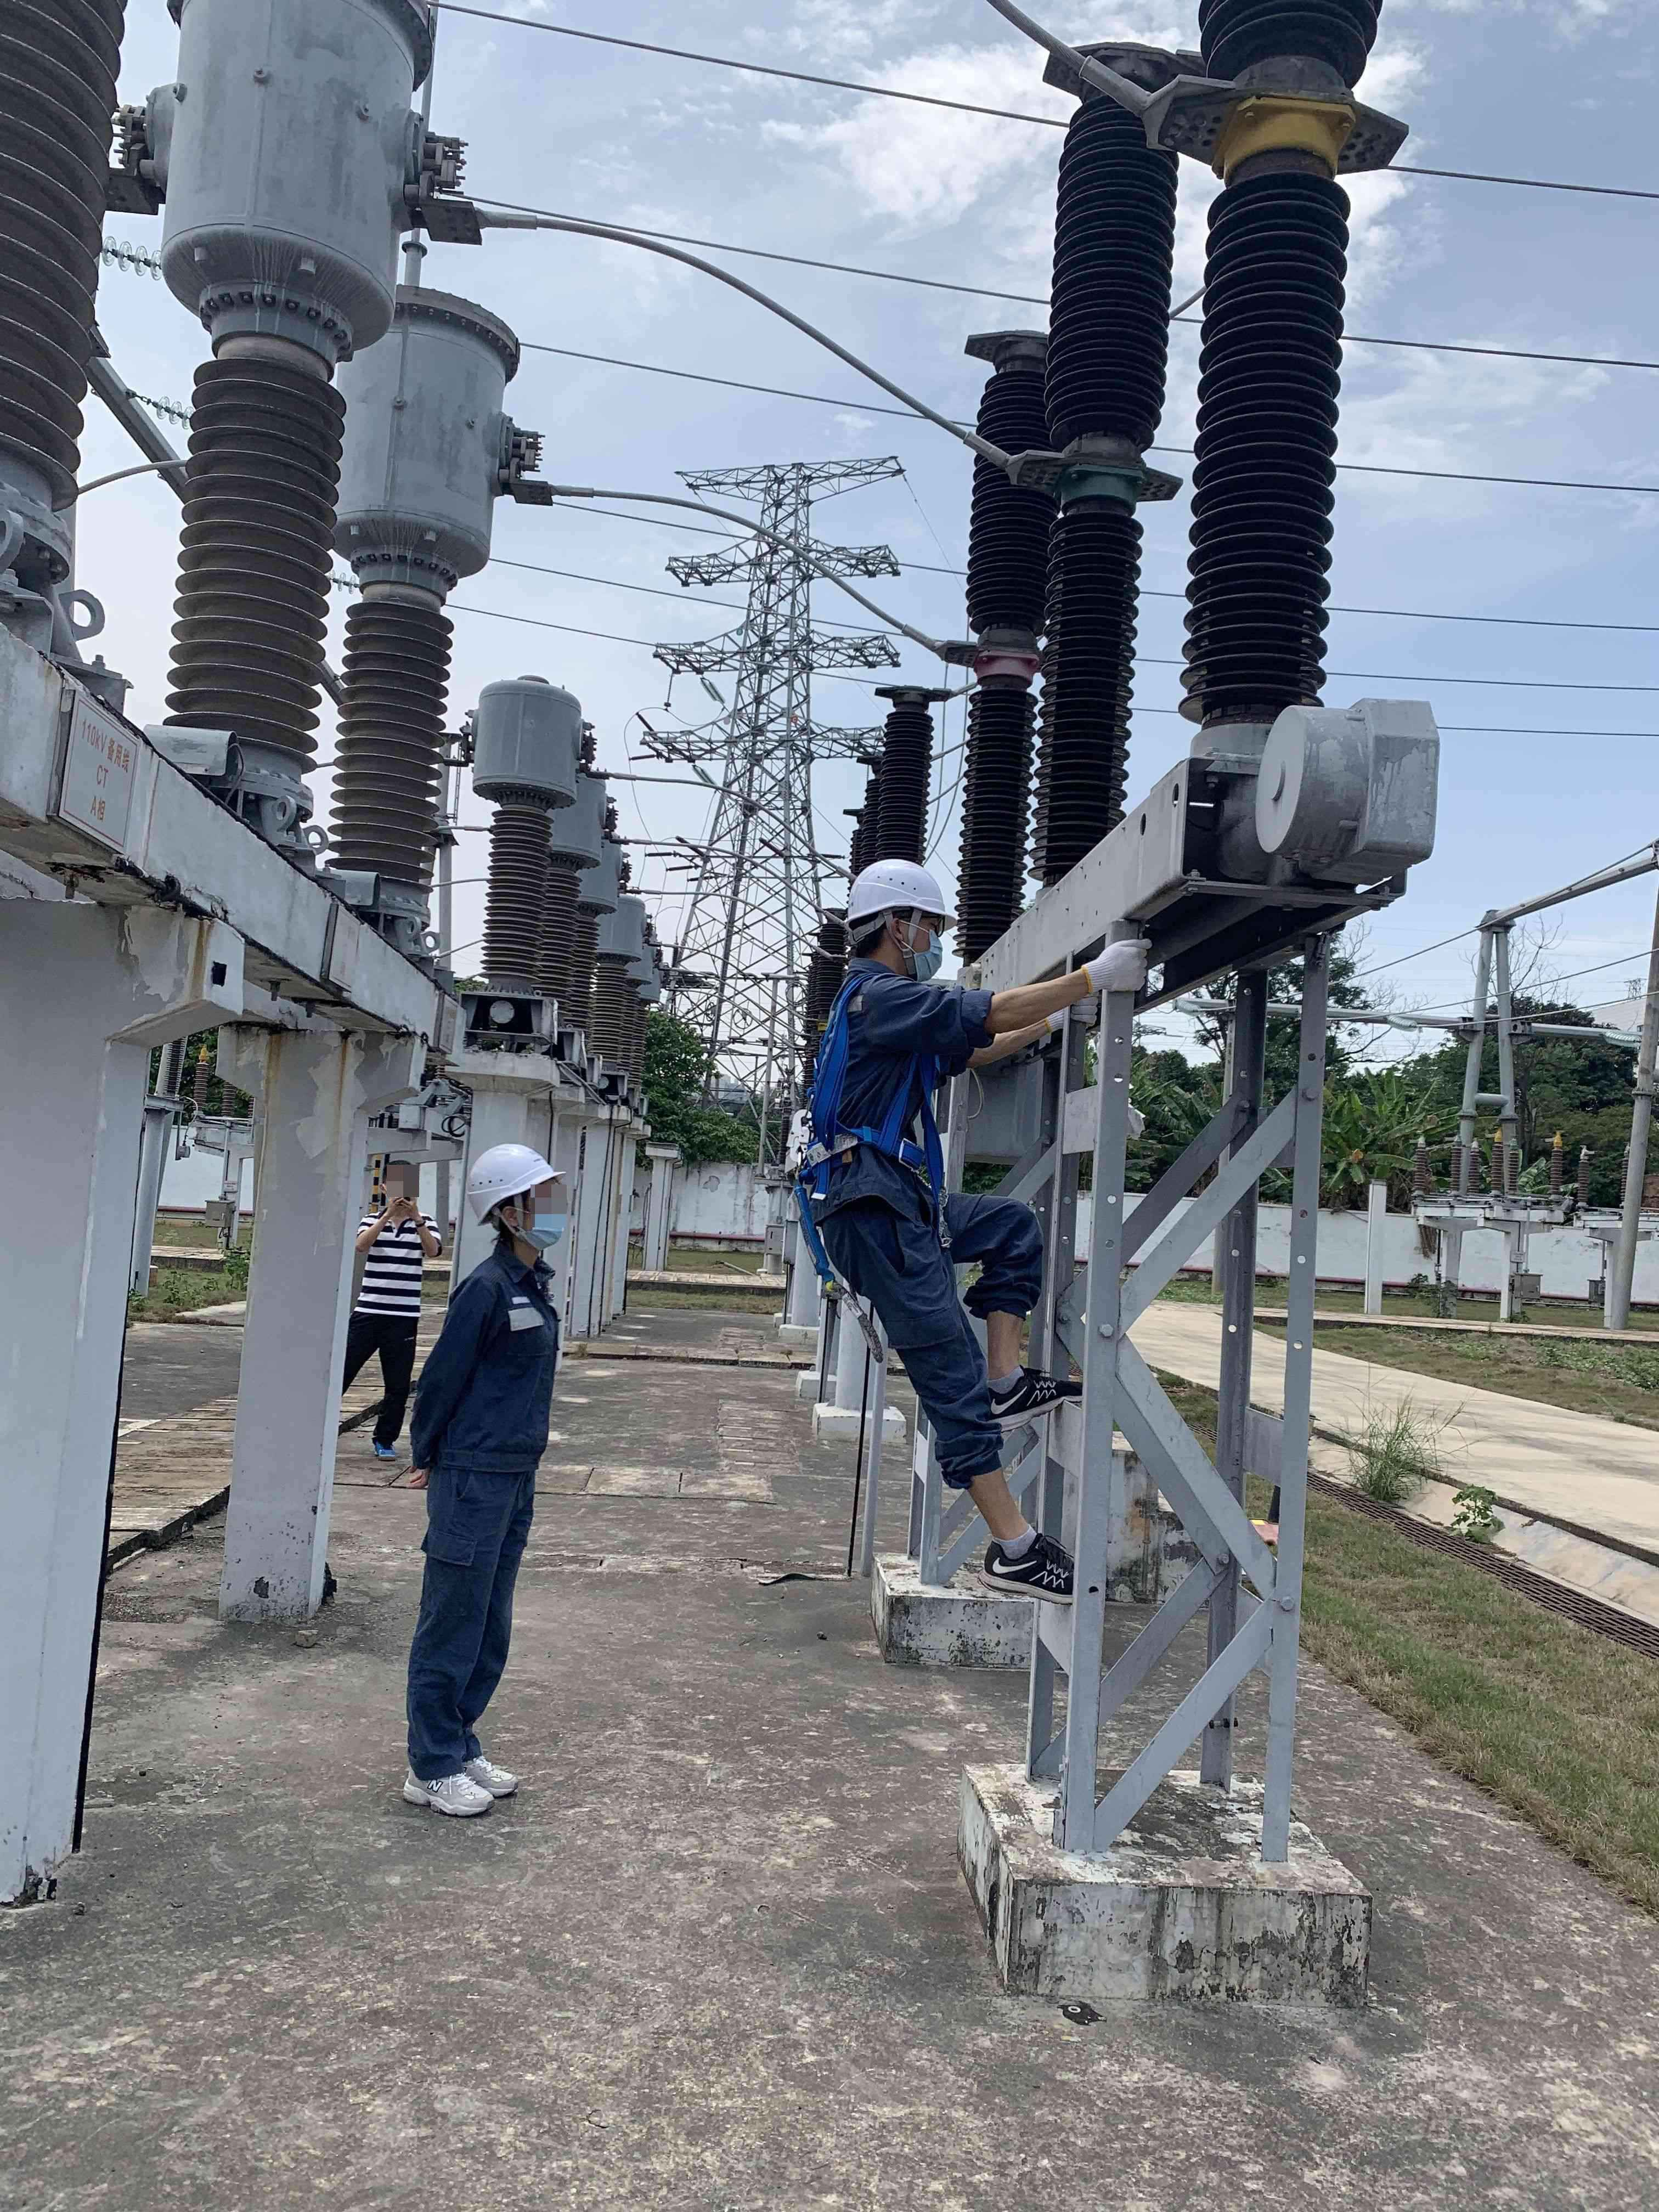downcloth: (343, 1310, 420, 1447)
downsuit: (803, 1186, 1046, 1493), (408, 1486, 538, 1775)
upcloth: (356, 1211, 444, 1318)
upsuit: (788, 960, 1009, 1181), (403, 1254, 561, 1480)
wrongbottom: (936, 1426, 1030, 1541), (964, 1275, 1044, 1385)
wrongtop: (957, 970, 1089, 1054)
